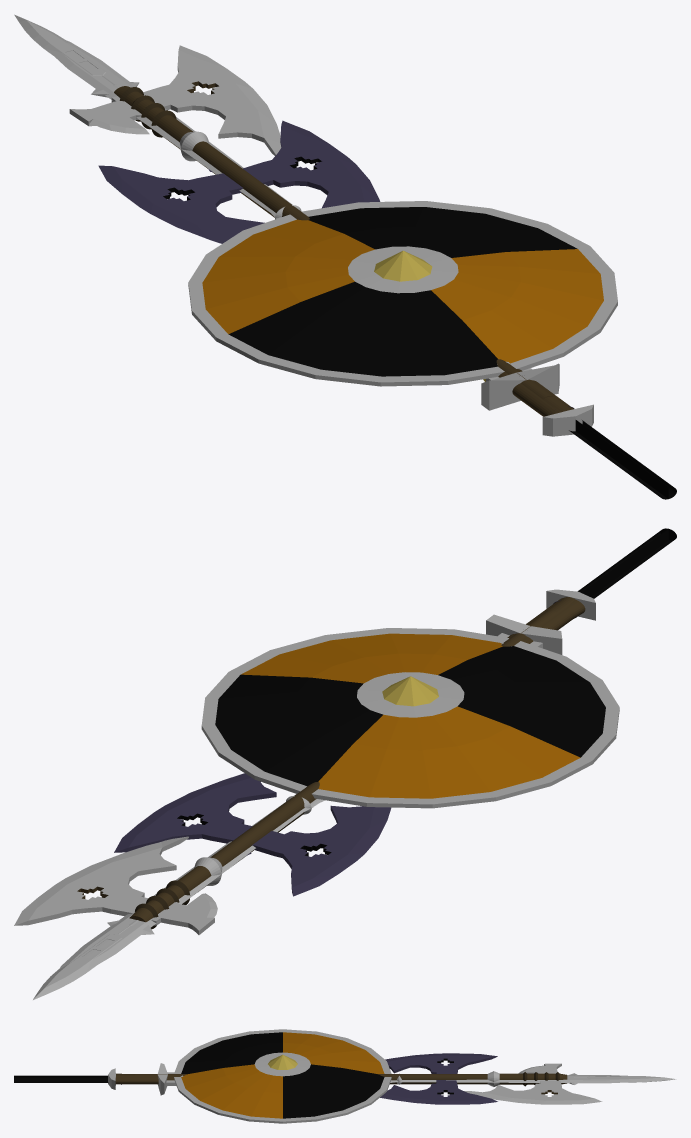
The model's file is bronie2.fbx.
3 renders of one model, top to bottom at view 1: azimuth 30°, elevation 25°; view 2: azimuth 150°, elevation 25°; view 3: azimuth 270°, elevation 25°, orthographic. The views are drawn at different scales.
Visible parts, largest first — view 1: tarcza, final boss broniczka, Halabarda, Włócznia, nordic sword, claymore 2, toporek; view 2: tarcza, final boss broniczka, Halabarda, Włócznia, nordic sword, claymore 2, toporek; view 3: tarcza, final boss broniczka, Włócznia, Halabarda, claymore 2, nordic sword, toporek.
Boxes of the visible parts, x1,y1,x2,y2 form: tarcza: [188, 201, 617, 386]; final boss broniczka: [98, 120, 676, 499]; Halabarda: [69, 45, 301, 219]; Włócznia: [14, 14, 552, 399]; nordic sword: [272, 214, 593, 436]; claymore 2: [47, 40, 509, 364]; toporek: [498, 368, 573, 416]; tarcza: [201, 628, 619, 808]; final boss broniczka: [114, 528, 676, 896]; Halabarda: [14, 795, 311, 934]; Włócznia: [33, 610, 557, 999]; nordic sword: [294, 589, 595, 811]; claymore 2: [59, 643, 511, 970]; toporek: [507, 598, 585, 645]; tarcza: [174, 1029, 391, 1123]; final boss broniczka: [14, 1053, 497, 1104]; Włócznia: [135, 1071, 676, 1086]; Halabarda: [397, 1063, 602, 1104]; claymore 2: [180, 1075, 636, 1083]; nordic sword: [108, 1063, 394, 1095]; toporek: [115, 1073, 179, 1084].
Bounding box in the file's own units: 439 × 71.46 × 1331.
